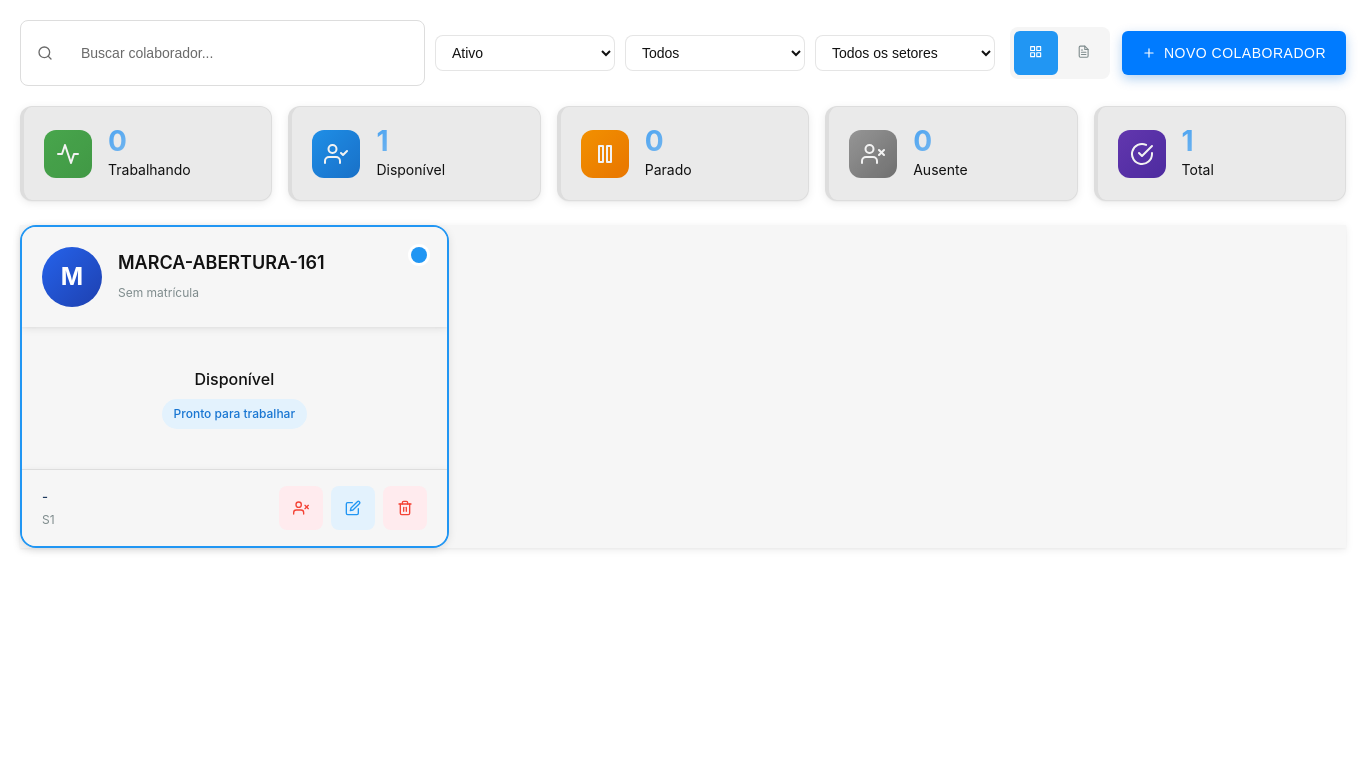
[RN-161.01, C396] Colaboradores (operacional/Colaboradores): so o ultimo pedido mexe na tela › [RN-161.01, C396] a resposta lenta do pedido anterior chega depois e nao troca a lista
This screenshot has width=1366, height=768.
Step 1. Select "Ativo" in the 1st dropdown → (525, 53), box x1=435 y1=35 x2=615 y2=71
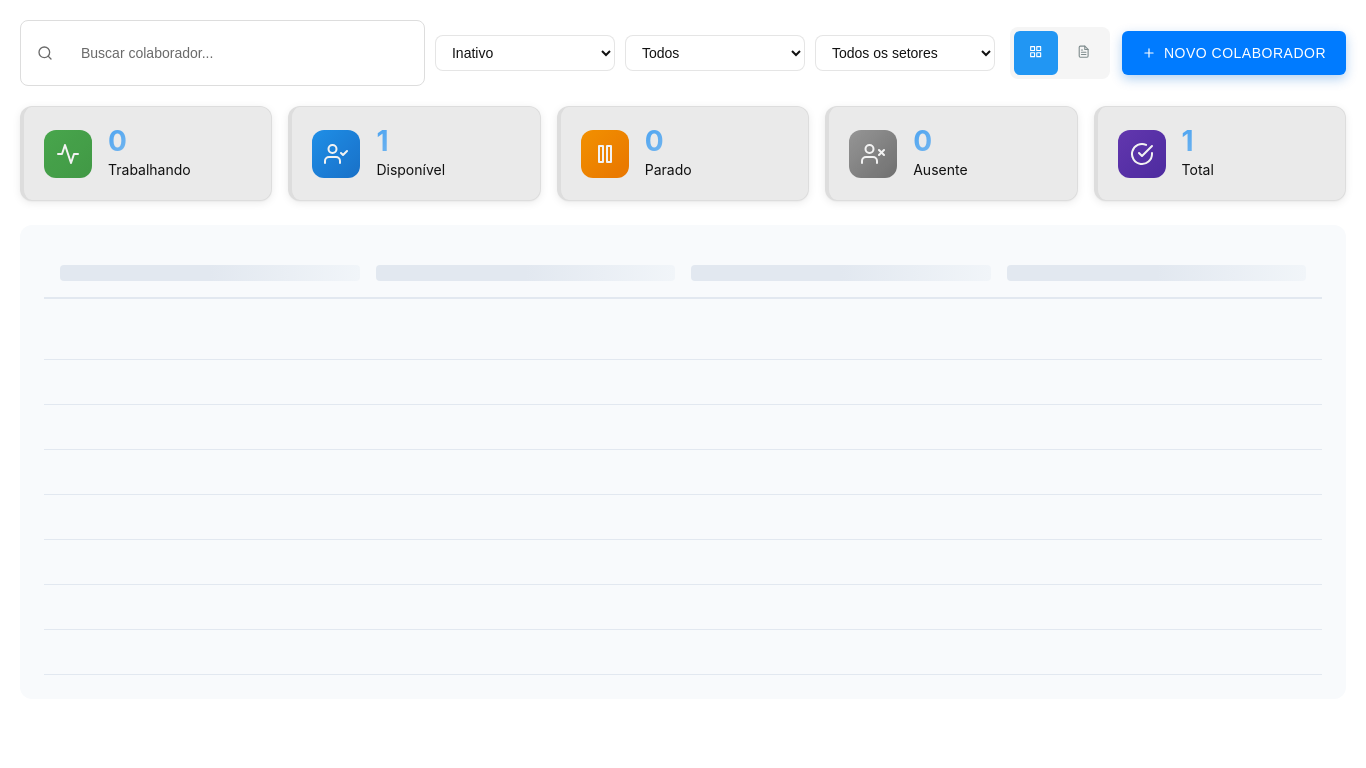
Step 2. Select "Inativo" in the 1st dropdown → (525, 53), box x1=435 y1=35 x2=615 y2=71
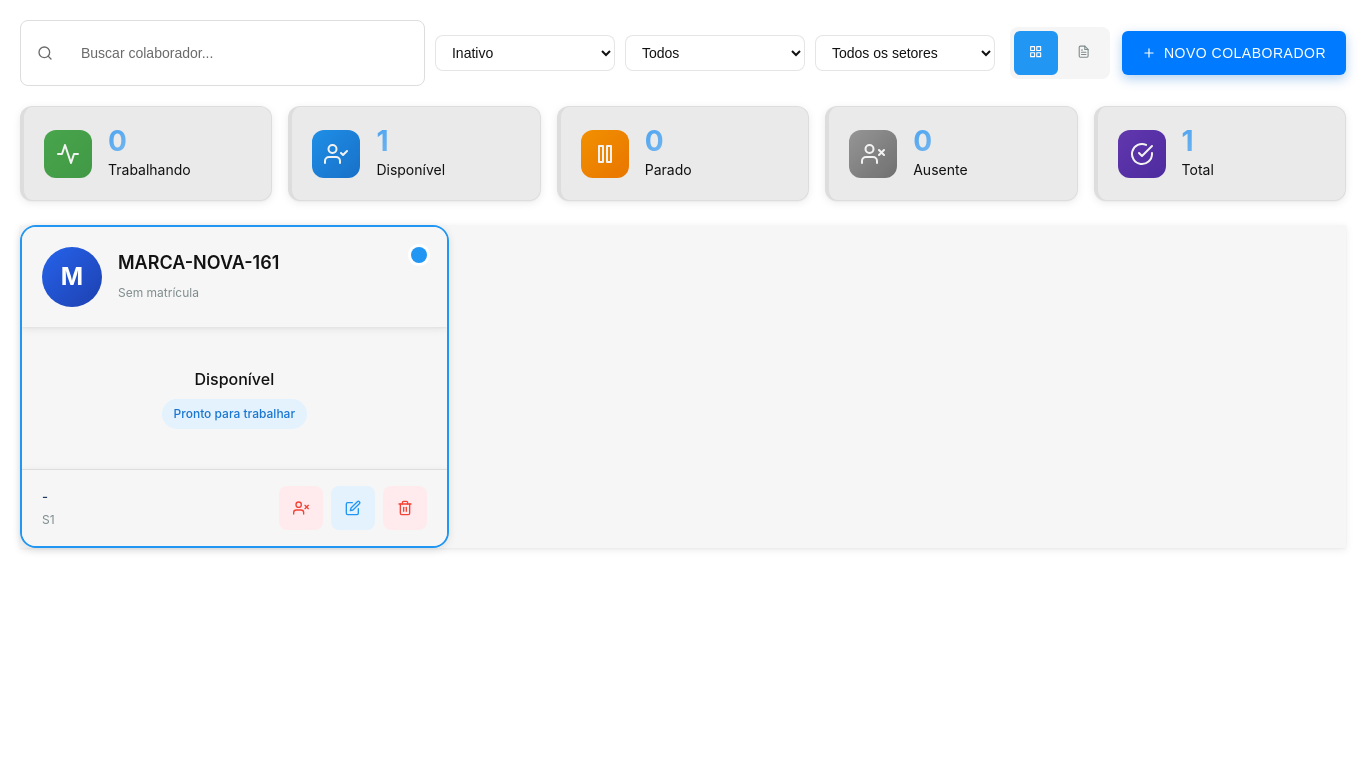
Expected: the text "MARCA-NOVA-161" is shown, x1=118 y1=252 x2=279 y2=273
